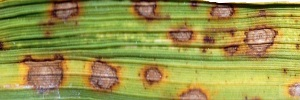RiceBrownSpot: (16, 49, 207, 100), (171, 1, 282, 61), (40, 1, 168, 23)
